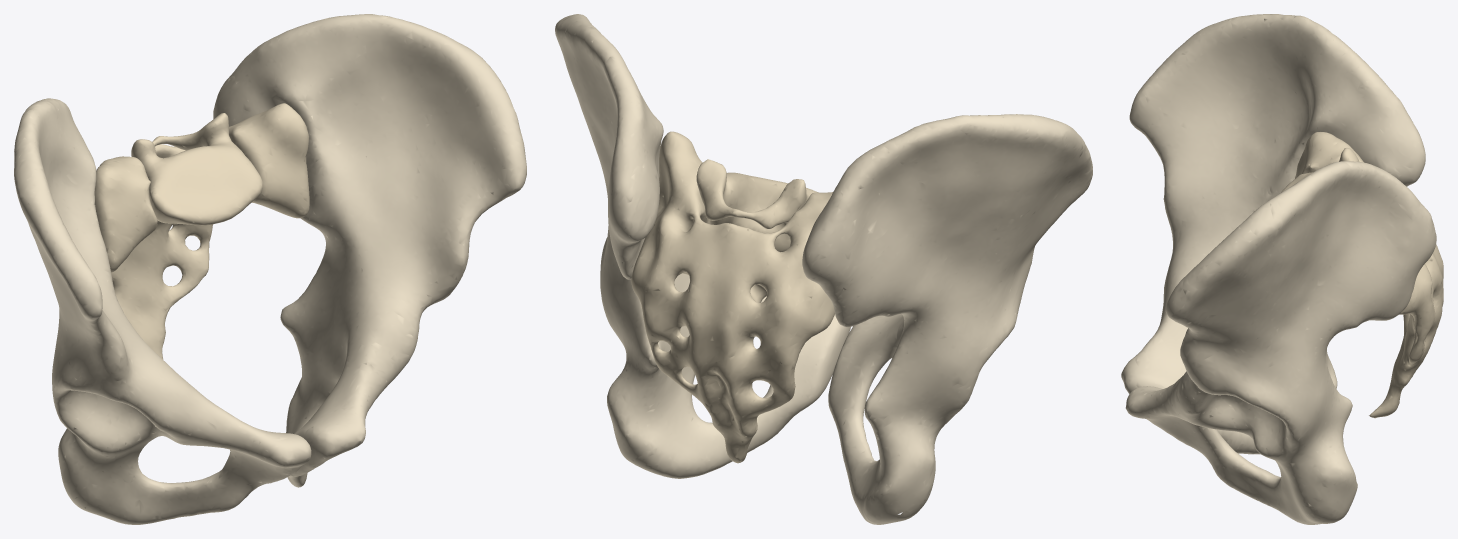
File: s1045_pelvis.glb
3 renders of one model, left to right at view 1: azimuth 30°, elevation 25°; view 2: azimuth 150°, elevation 25°; view 3: azimuth 270°, elevation 25°, orthographic. The views are drawn at different scales.
Visible parts, largest first — view 1: hip_left, hip_right, sacrum, vertebrae_S1; view 2: hip_right, sacrum, hip_left, vertebrae_S1; view 3: hip_left, hip_right, sacrum.
Part boxes in pixels (x1,y1,x2,y2): hip_left: (213,14,526,487); hip_right: (14,98,311,524); sacrum: (94,103,309,359); vertebrae_S1: (131,113,262,225); hip_right: (802,114,1092,524); sacrum: (631,131,834,463); hip_left: (555,14,850,478); vertebrae_S1: (696,159,818,251); hip_left: (1125,161,1436,524); hip_right: (1121,14,1425,454); sacrum: (1295,132,1443,418).
Bounding box in the file's own units: 0.2703 × 0.2275 × 0.1688.
